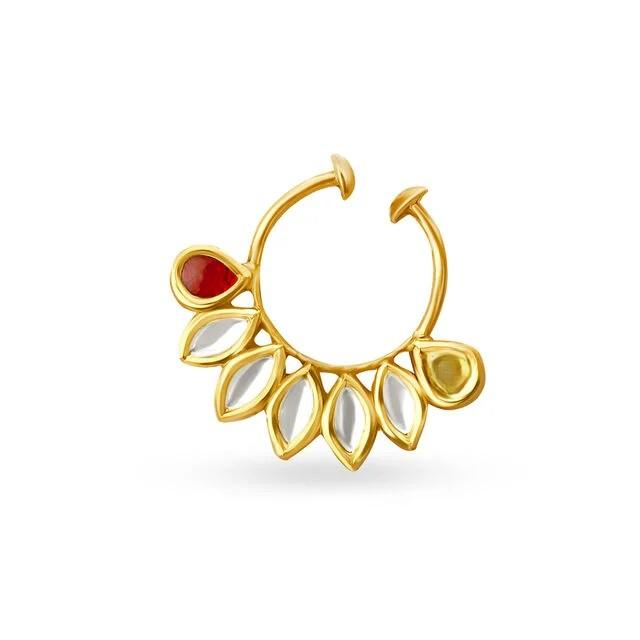missing gem: (420, 346, 471, 397)
